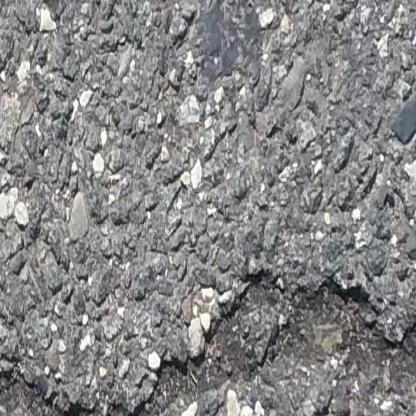Cracks: (0, 269, 416, 416)
